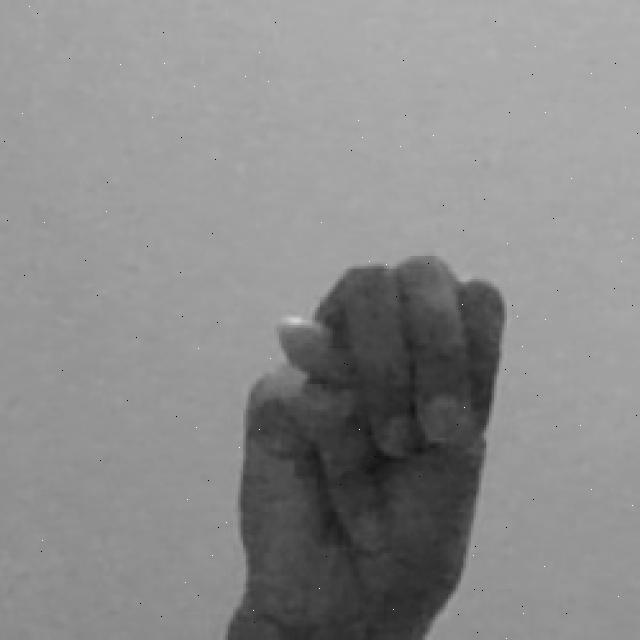M: (217, 251, 511, 640)
